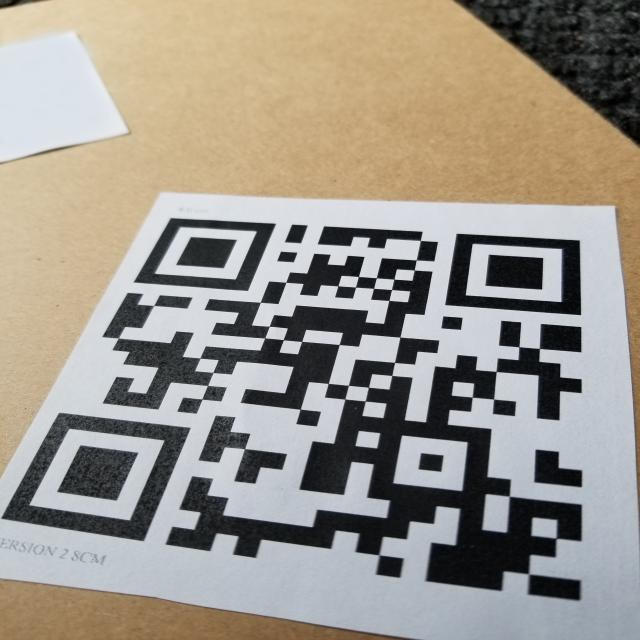QR_CODE: (1, 200, 617, 610)
